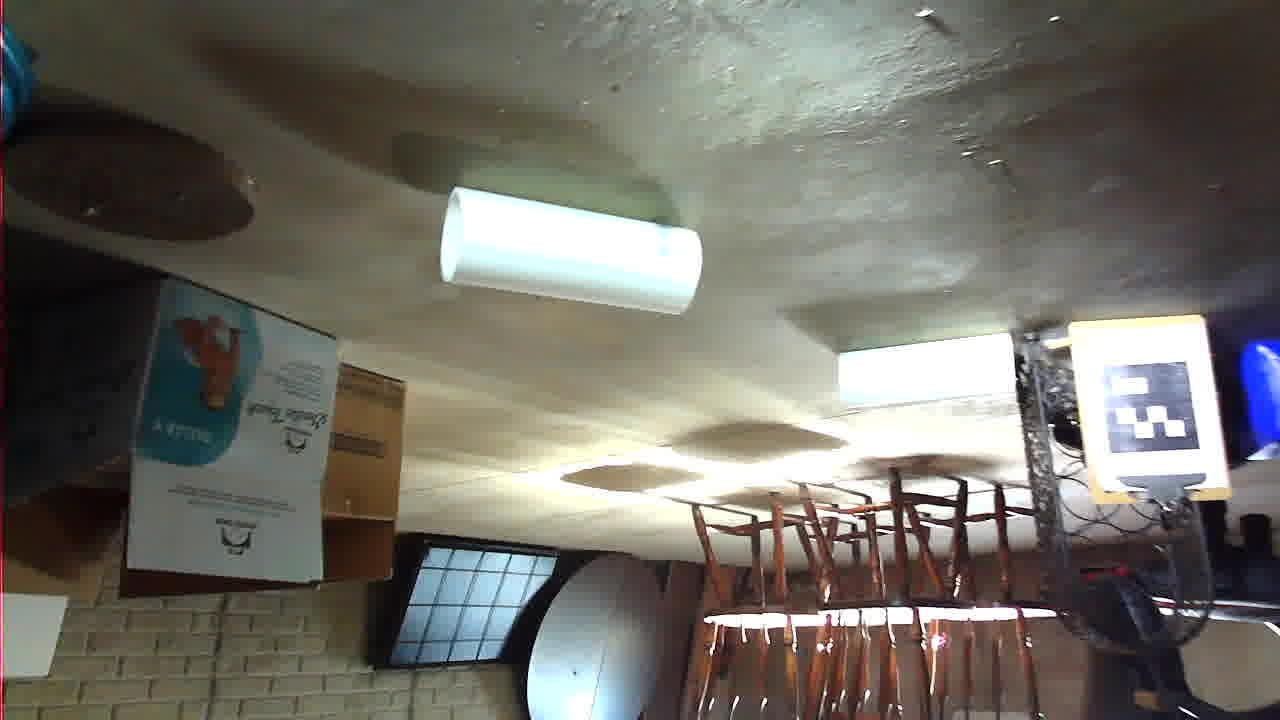coral: (577, 405, 840, 533)
